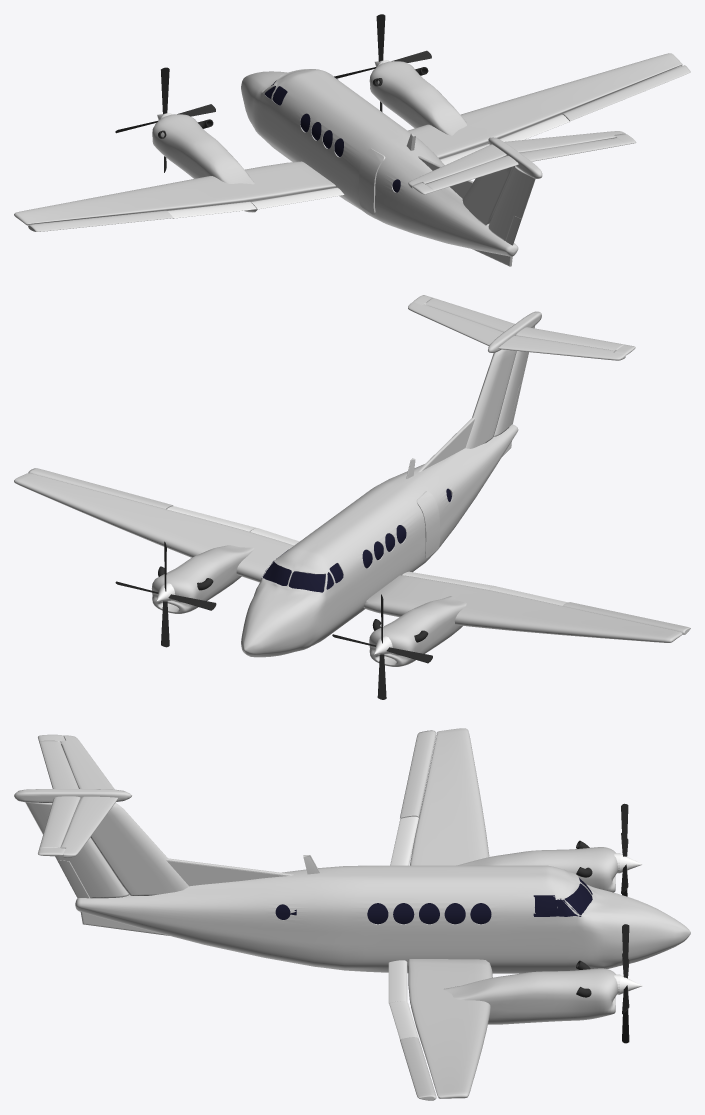
3 views of the same model, one above another, from view 1: azimuth 30°, elevation 25°; view 2: azimuth 150°, elevation 25°; view 3: azimuth 270°, elevation 25° (orthographic). The views are drawn at different scales.
Visible parts, largest first — view 1: Tsofitt, Wing Main001, Box045, Box054, Tail Upper001, Tail Hight Control Surfaces001, Tail Control Surfacea001, Middle Tail Part001, Wing Outer Flap001, Door001, Wing Inner Flap001, Top Tail Part001 (+1 smaller); view 2: Tsofitt, Wing Main001, Box045, Tail Upper001, Middle Tail Part001, Tail Hight Control Surfaces001, Box054, FrontWindow002, Tail Control Surfacea001, Door001, Wing Outer Flap001, Front Tail Part001 (+3 smaller); view 3: Tsofitt, Wing Main001, Box045, Middle Tail Part001, Tail Upper001, Box054, Tail Hight Control Surfaces001, Tail Control Surfacea001, SideWindows004, Front Tail Part001, Wing Outer Flap001, FrontWindow002 (+4 smaller).
Boxes of the visible parts, x1,y1,x2,y2 form: Tsofitt: [241, 69, 518, 256]; Wing Main001: [14, 53, 682, 225]; Box045: [152, 61, 466, 212]; Box054: [28, 65, 690, 231]; Tail Upper001: [408, 131, 625, 188]; Tail Hight Control Surfaces001: [412, 134, 636, 194]; Tail Control Surfacea001: [488, 166, 535, 241]; Middle Tail Part001: [462, 166, 514, 225]; Wing Outer Flap001: [167, 114, 569, 218]; Door001: [359, 148, 385, 214]; Wing Inner Flap001: [250, 144, 489, 209]; Top Tail Part001: [488, 137, 542, 178]; Tsofitt: [241, 424, 518, 657]; Wing Main001: [14, 473, 682, 642]; Box045: [151, 545, 466, 666]; Tail Upper001: [408, 302, 625, 360]; Middle Tail Part001: [465, 349, 516, 448]; Tail Hight Control Surfaces001: [412, 295, 635, 355]; Box054: [28, 468, 690, 634]; FrontWindow002: [261, 549, 343, 592]; Tail Control Surfacea001: [493, 325, 535, 436]; Door001: [416, 491, 440, 557]; Wing Outer Flap001: [167, 506, 567, 605]; Front Tail Part001: [417, 417, 474, 472]; Tsofitt: [75, 865, 690, 973]; Wing Main001: [408, 728, 492, 1098]; Box045: [443, 847, 617, 1024]; Middle Tail Part001: [90, 802, 188, 895]; Tail Upper001: [60, 735, 117, 857]; Box054: [400, 730, 436, 1100]; Tail Hight Control Surfaces001: [38, 734, 80, 856]; Tail Control Surfacea001: [25, 802, 129, 898]; SideWindows004: [367, 903, 491, 924]; Front Tail Part001: [166, 858, 293, 886]; Wing Outer Flap001: [389, 816, 418, 1039]; FrontWindow002: [533, 878, 592, 916].
Bounding box in the file's own units: 13 × 3.19 × 10.12.
